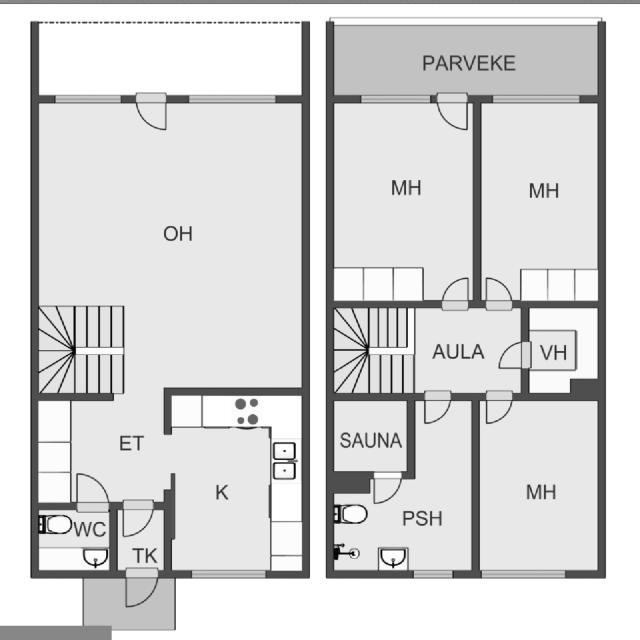door: (429, 90, 472, 134), (68, 472, 115, 512), (116, 497, 153, 540), (123, 570, 162, 610), (134, 86, 167, 132), (418, 387, 452, 428), (495, 337, 527, 377), (482, 388, 514, 428), (439, 272, 475, 306), (372, 470, 402, 506), (478, 276, 509, 310)
window: (186, 88, 278, 106), (180, 564, 267, 583), (351, 85, 432, 105), (48, 86, 124, 106), (486, 89, 580, 104), (478, 564, 570, 578), (406, 564, 460, 584)
zone: (36, 98, 310, 396), (334, 95, 472, 304), (473, 100, 600, 306), (165, 392, 308, 572), (477, 394, 602, 574), (30, 396, 170, 509), (330, 474, 478, 578), (524, 306, 604, 394), (331, 396, 408, 474), (31, 507, 115, 572)
